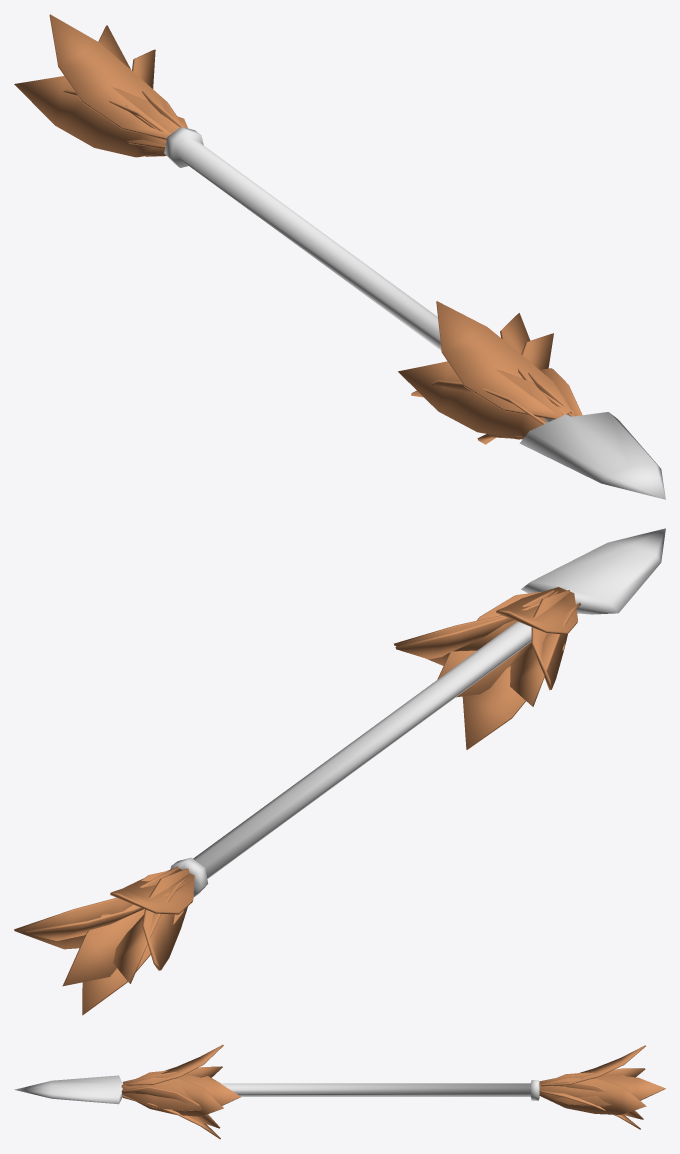
The model's file is Arrow.fbx.
3 views of the same model, one above another, from view 1: azimuth 30°, elevation 25°; view 2: azimuth 150°, elevation 25°; view 3: azimuth 270°, elevation 25° (orthographic). The views are drawn at different scales.
Parts seen in each view (by area): view 1: Plane, Cylinder; view 2: Plane, Cylinder; view 3: Plane, Cylinder.
Boxes of the visible parts, x1,y1,x2,y2 form: Plane: (14,14,582,444); Cylinder: (164,126,665,499); Plane: (14,587,580,1015); Cylinder: (170,528,665,897); Plane: (121,1044,665,1139); Cylinder: (14,1075,539,1104).
Size of the model in its own units: 69.45 by 64.84 by 461.
